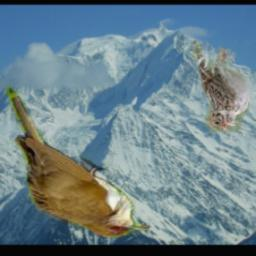Cuckoo: (7, 84, 151, 238)
Sparrow: (193, 38, 249, 132)
